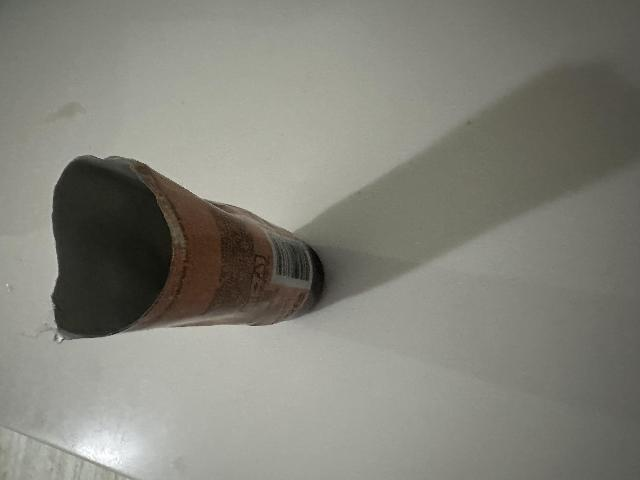Plastik: (49, 151, 325, 348)
